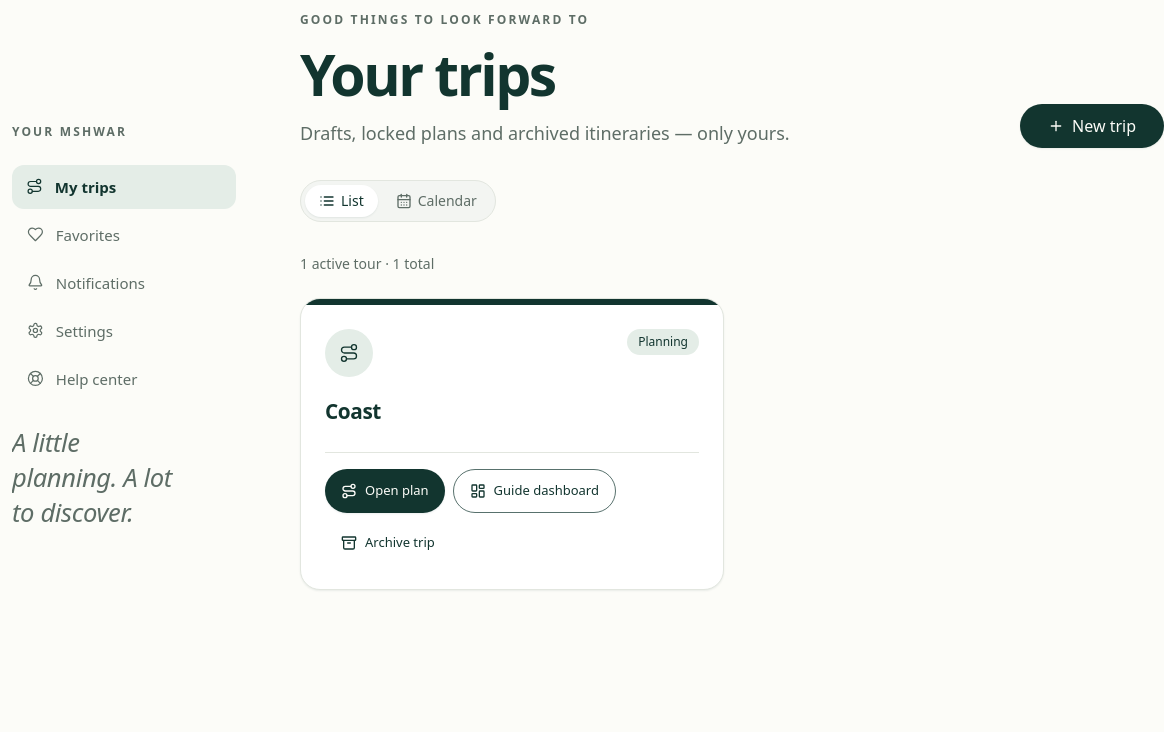
Test: account hub views › archives a trip from the list
Expected: the heading "Coast" is shown, 325,397 -> 381,425
Click the button "Archive trip" at (388, 543), box 325,521 -> 451,565
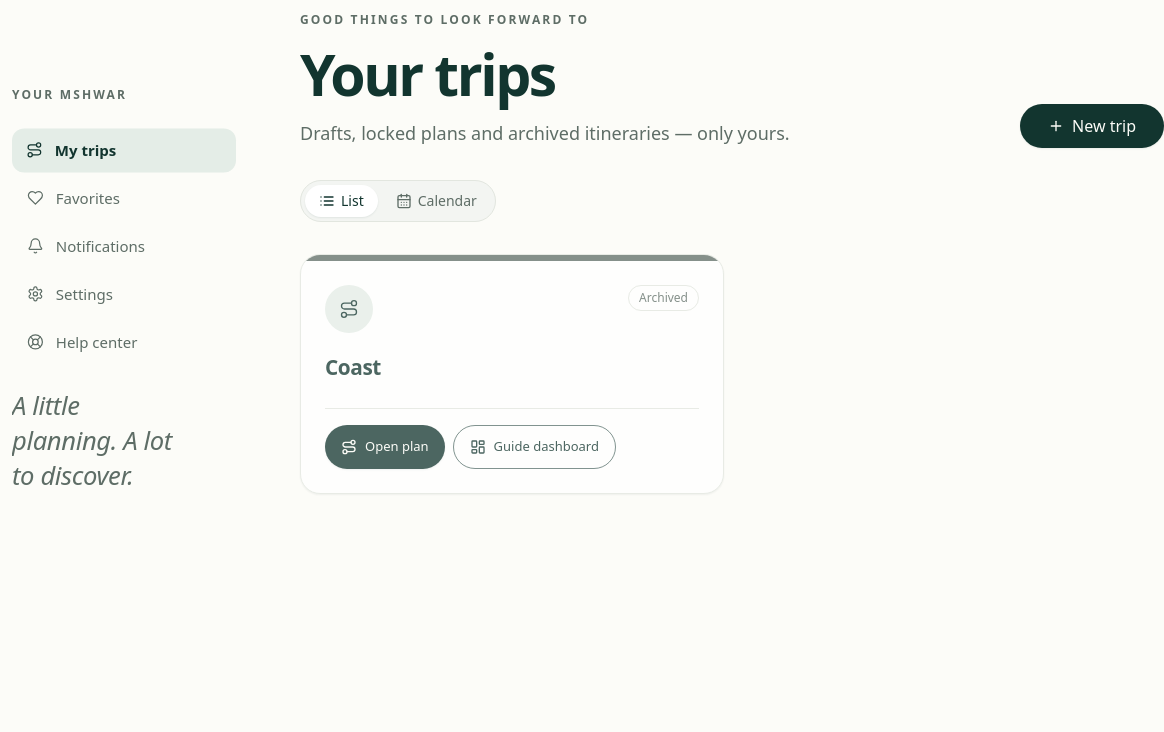
Result: the text "Archived" is shown at 628,285 -> 699,311
